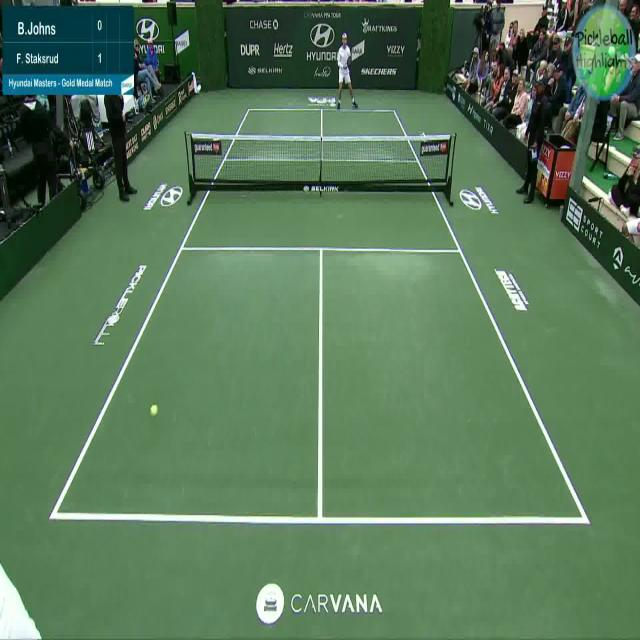ball: (150, 402, 158, 419)
